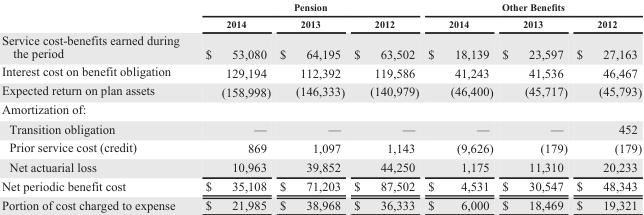table: (1, 1, 641, 211)
table column: (1, 1, 191, 211), (191, 1, 274, 211), (422, 1, 497, 211), (274, 1, 348, 211), (348, 1, 422, 211), (497, 1, 571, 211), (571, 1, 641, 211)
table column header: (1, 1, 641, 30)
table projected row header: (1, 100, 641, 119)
table row: (1, 30, 641, 62), (1, 62, 641, 81), (1, 81, 641, 100), (1, 100, 641, 119), (1, 119, 641, 138), (1, 138, 641, 157), (1, 157, 641, 176), (1, 176, 641, 195), (1, 195, 641, 211), (1, 15, 641, 30), (1, 1, 641, 15)
table spanning cell: (191, 1, 422, 15), (422, 1, 641, 15)
